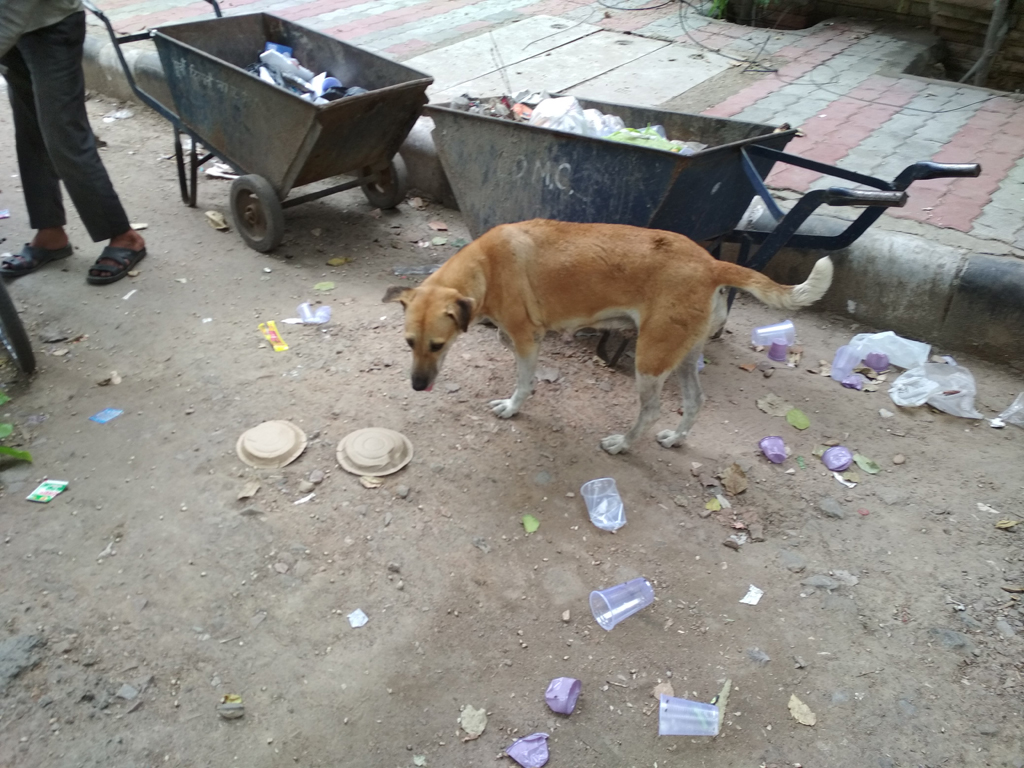dog: (379, 219, 836, 456)
